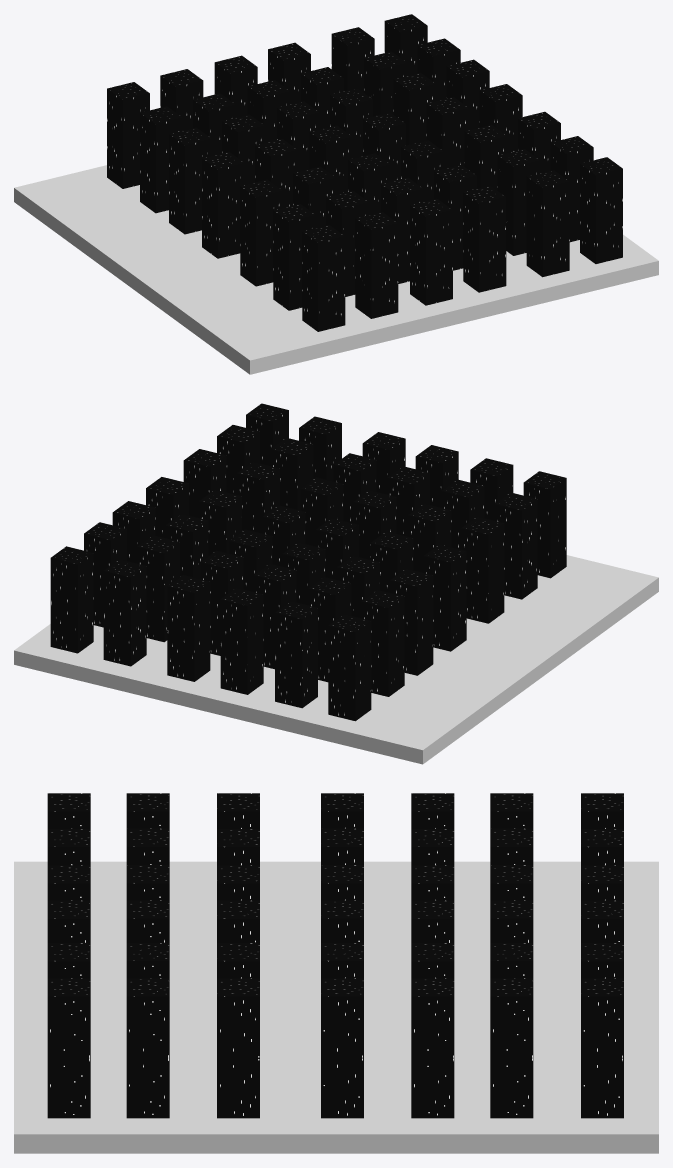
File: building.glb
3 views of the same model, one above another, from view 1: azimuth 30°, elevation 25°; view 2: azimuth 150°, elevation 25°; view 3: azimuth 270°, elevation 25° (orthographic). The views are drawn at different scales.
Visible parts, largest first — view 1: Cube, Cube.024, Cube.037, Cube.040, Cube.012, Cube.021, Cube.009, Cube.043, Cube.036, Cube.045, Cube.044, Cube.035 (+31 smaller); view 2: Cube, Cube.004, Cube.001, Cube.029, Cube.045, Cube.032, Cube.048, Cube.036, Cube.043, Cube.035, Cube.046, Cube.044 (+31 smaller); view 3: Cube, Cube.002, Cube.015, Cube.008, Cube.009, Cube.001, Cube.007, Cube.016, Cube.018, Cube.024, Cube.025, Cube.031 (+31 smaller).
Boxes of the visible parts, x1,y1,x2,y2 form: Cube: (14, 165, 658, 374); Cube.024: (463, 185, 506, 292); Cube.037: (302, 225, 345, 331); Cube.040: (355, 212, 398, 318); Cube.012: (526, 170, 569, 277); Cube.021: (410, 198, 452, 305); Cube.009: (580, 157, 622, 263); Cube.043: (202, 151, 244, 258); Cube.036: (240, 179, 283, 286); Cube.045: (107, 82, 149, 188); Cube.044: (169, 127, 211, 234); Cube.035: (273, 203, 316, 310); Cube: (14, 555, 658, 764); Cube.004: (103, 559, 146, 666); Cube.001: (50, 546, 93, 653); Cube.029: (220, 588, 263, 694); Cube.045: (328, 614, 371, 721); Cube.032: (167, 575, 210, 681); Cube.048: (275, 601, 317, 708); Cube.036: (461, 516, 504, 623); Cube.043: (423, 544, 466, 651); Cube.035: (494, 492, 537, 599); Cube.046: (361, 590, 404, 696); Cube.044: (390, 568, 433, 675); Cube: (14, 861, 658, 1153); Cube.002: (490, 978, 533, 1118); Cube.015: (126, 978, 169, 1118); Cube.008: (411, 978, 454, 1118); Cube.009: (47, 978, 90, 1118); Cube.001: (581, 978, 623, 1118); Cube.007: (321, 978, 363, 1118); Cube.016: (217, 978, 259, 1118); Cube.018: (126, 900, 169, 942); Cube.024: (47, 900, 90, 942); Cube.025: (411, 900, 454, 942); Cube.031: (490, 900, 533, 942).
Bounding box in the file's own units: 78.05 × 18.84 × 78.05.
2 materials, 2 textured.
